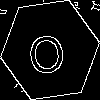O: (25, 25, 67, 76)
